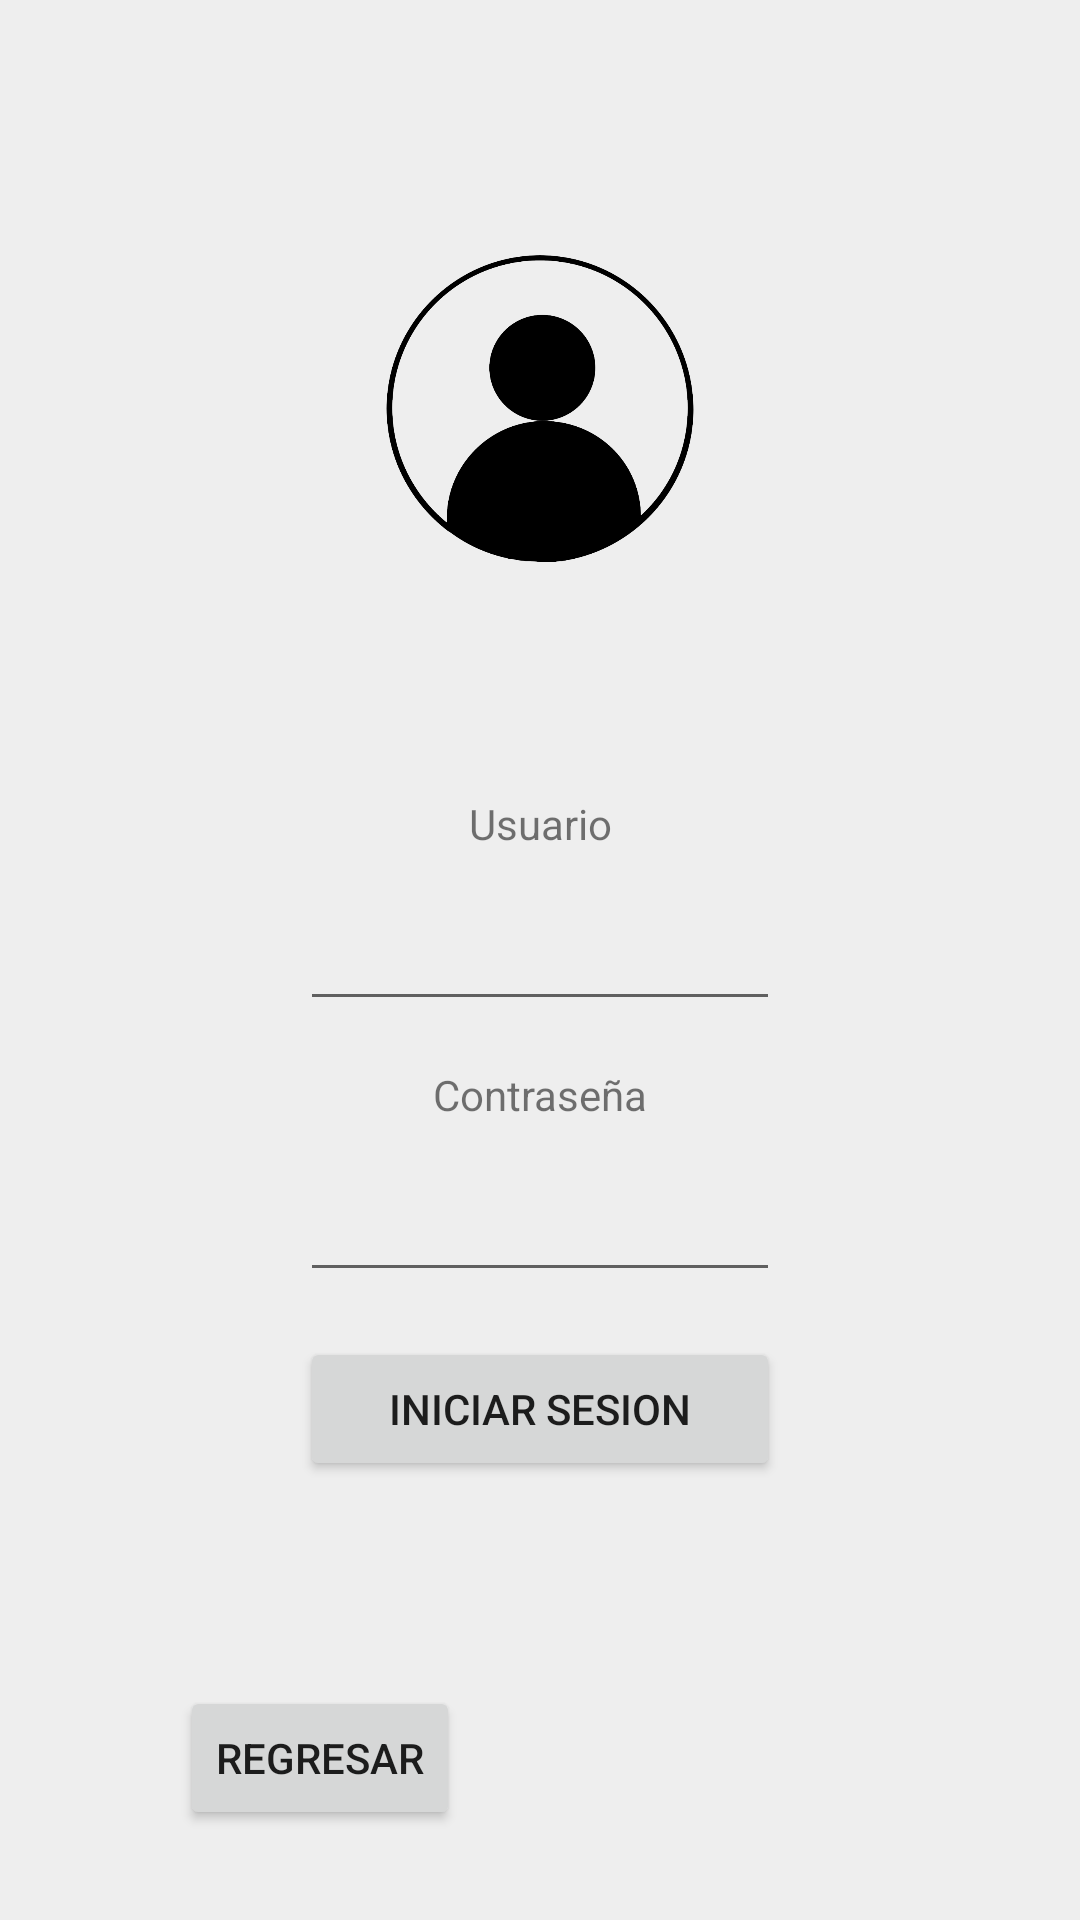

Icons on this 1080px×1920px Android screen, each with the point to tap as [x,y]:
login: [540,408]
